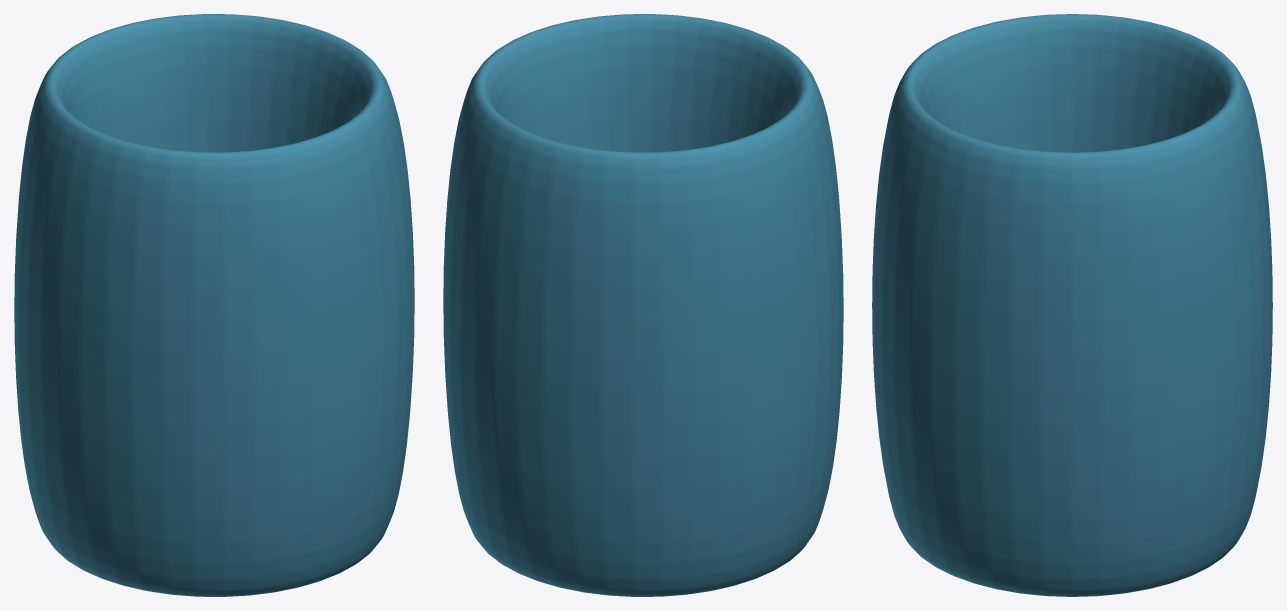
Rendered from Basket.fbx.
3 renders of one model, left to right at view 1: azimuth 30°, elevation 25°; view 2: azimuth 150°, elevation 25°; view 3: azimuth 270°, elevation 25°, orthographic.
Parts seen in each view (by area): view 1: polySurface2; view 2: polySurface2; view 3: polySurface2.
Part boxes in pixels (x1,y1,x2,y2): polySurface2: [14, 14, 414, 596]; polySurface2: [443, 14, 843, 596]; polySurface2: [872, 14, 1272, 596].
Bounding box in the file's own units: 20.22 × 24.68 × 20.22.
